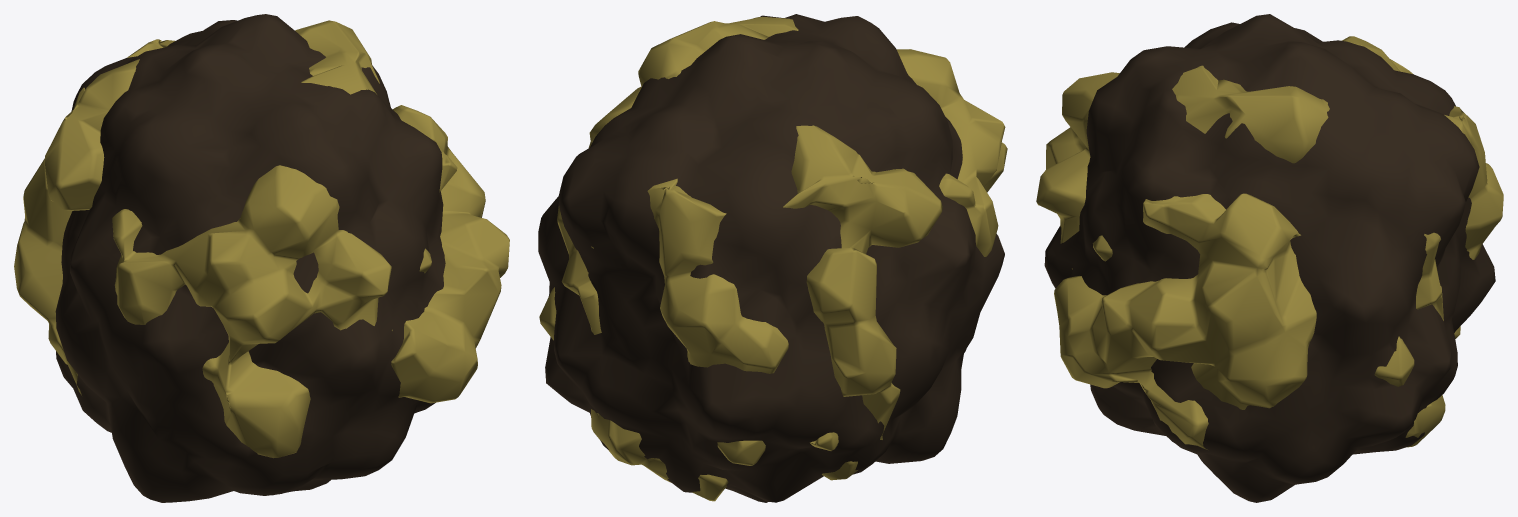
The model's file is hvs_ore_depositsmall.fbx.
The picture shows the model from 3 angles, left to right: view 1: azimuth 30°, elevation 25°; view 2: azimuth 150°, elevation 25°; view 3: azimuth 270°, elevation 25°; orthographic projection. The views are drawn at different scales.
Parts seen in each view (by area): view 1: Cube.013, Cube.012; view 2: Cube.013, Cube.012; view 3: Cube.013, Cube.012.
Boxes of the visible parts, left/top/right/bottom form: Cube.013: left=55, top=14, right=445, bottom=502; Cube.012: left=14, top=20, right=509, bottom=457; Cube.013: left=538, top=14, right=1004, bottom=502; Cube.012: left=539, top=16, right=1007, bottom=501; Cube.013: left=1044, top=14, right=1495, bottom=502; Cube.012: left=1036, top=36, right=1503, bottom=449.
Bounding box in the file's own units: 8.85 × 9.77 × 9.54.
